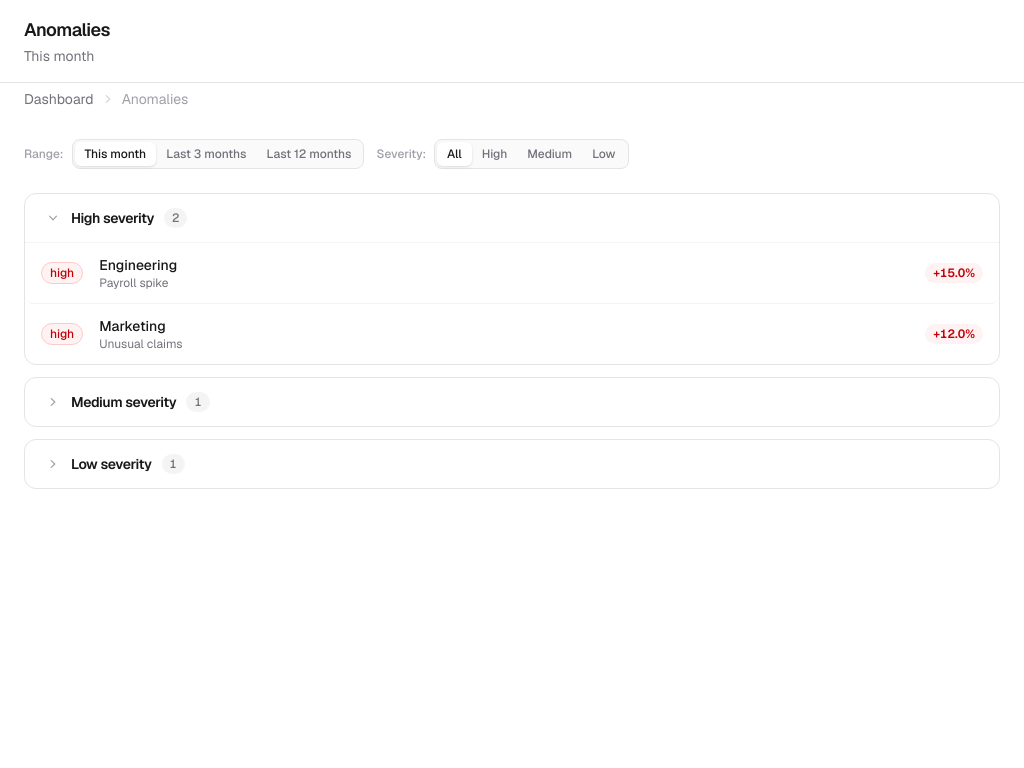
Test: Anomalies V2 integration › toggles group on click
Check: the heading "Medium severity" is shown, box [71,392,176,412]
Click the button "Medium severity 1". click: (124, 402)
box: [25,378,999,426]
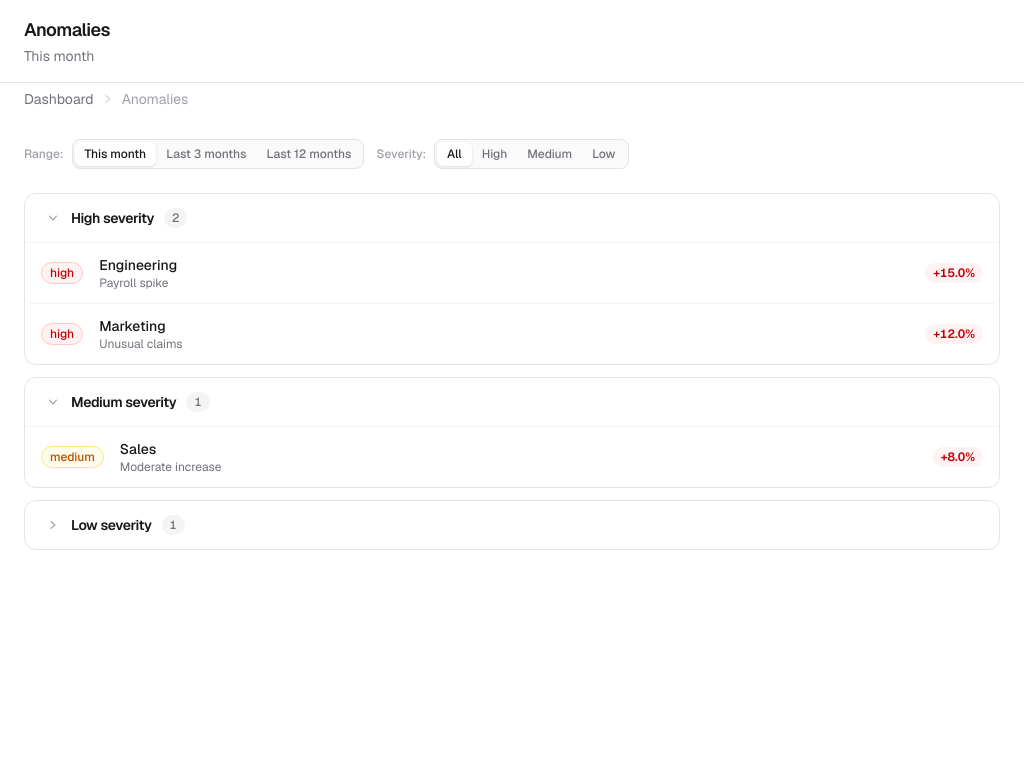
Check: the text "Sales" is shown, box [120,440,156,458]
